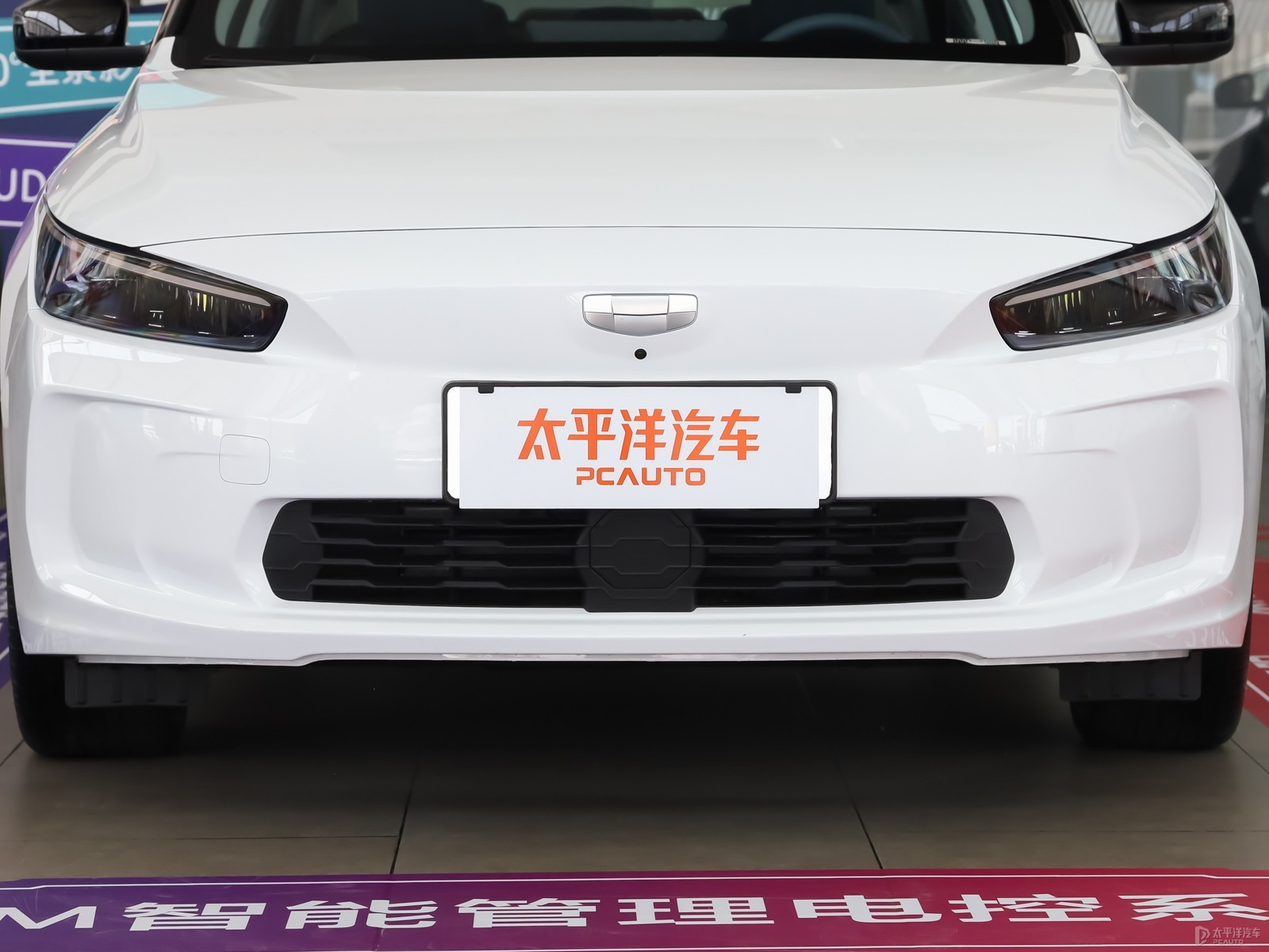GEOMETRY: (583, 294, 697, 336)
